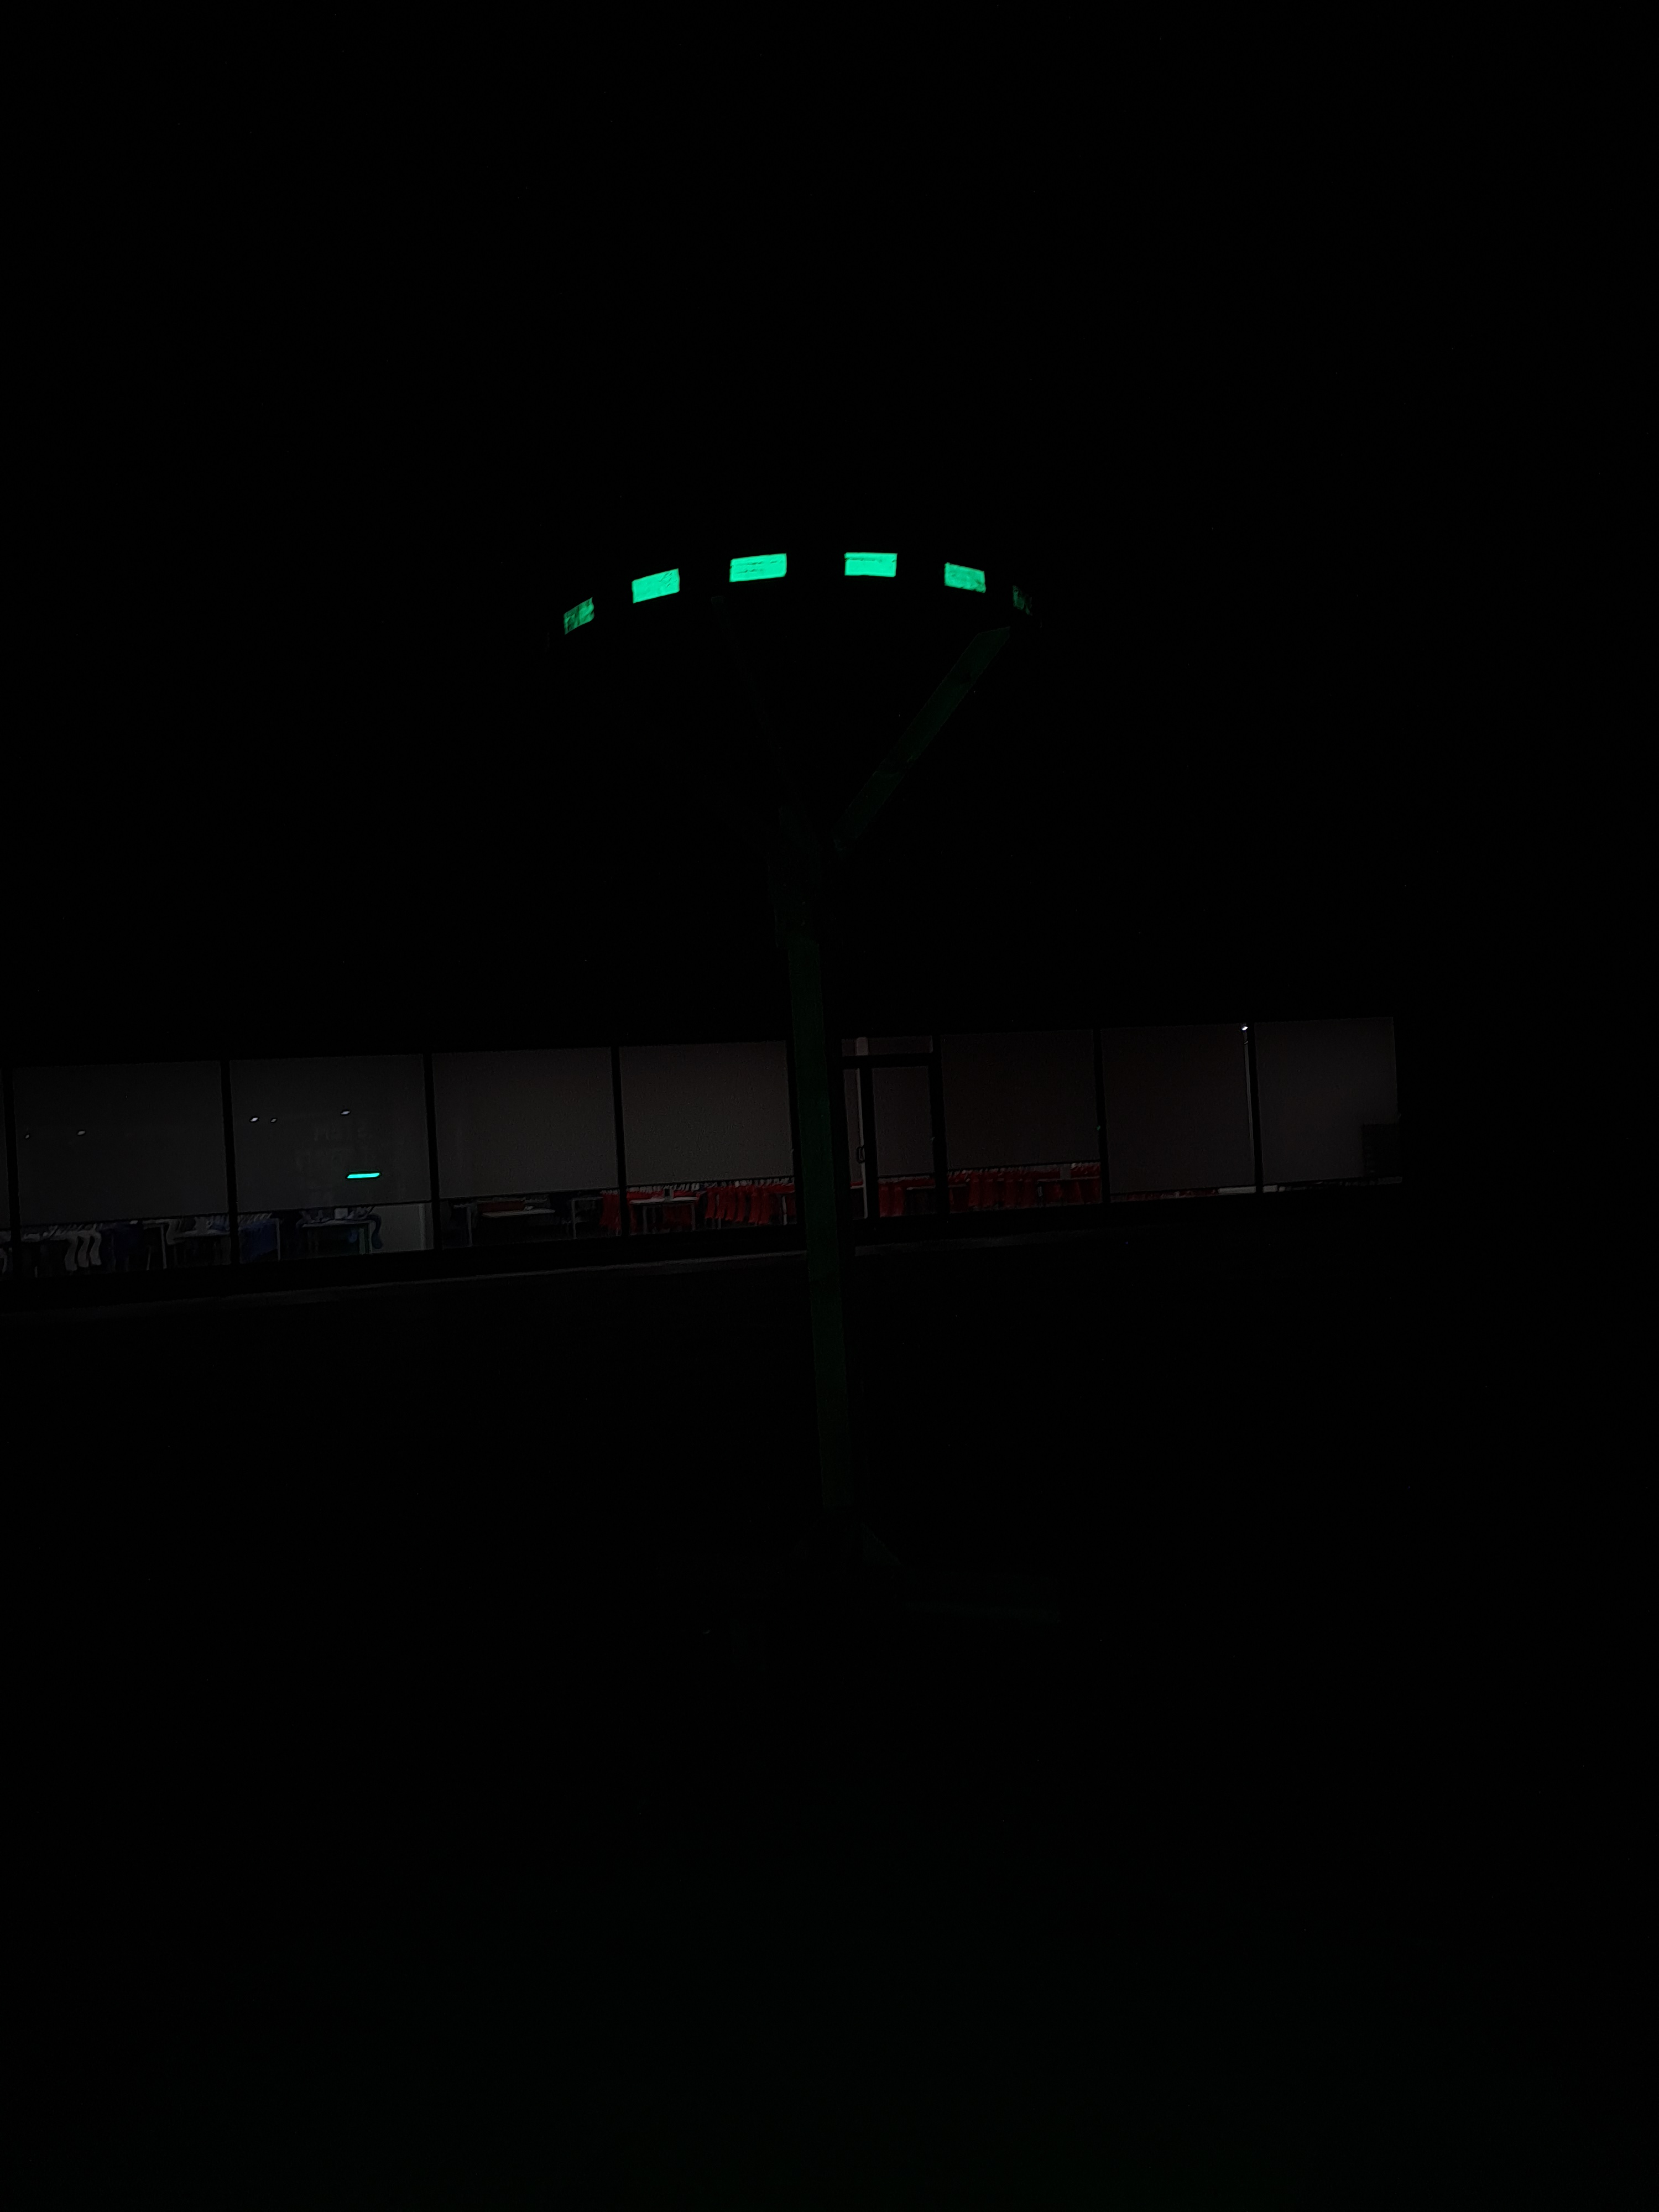hoop: (535, 547, 1039, 631)
